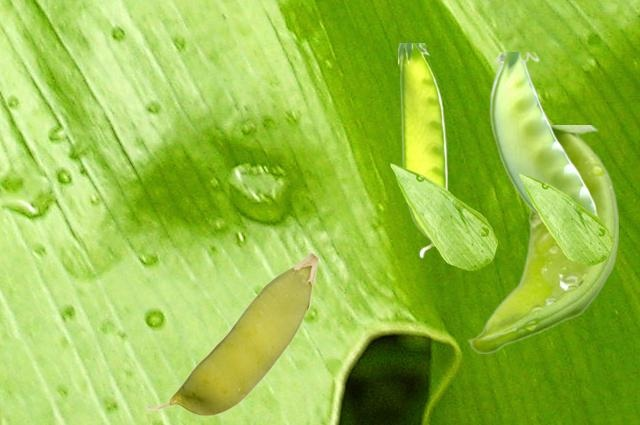pea: (467, 125, 617, 352), (146, 252, 318, 415), (489, 52, 598, 218), (398, 43, 446, 257)
